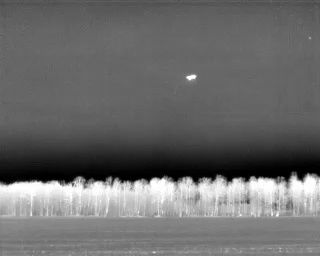DRONE: (182, 70, 202, 86)
